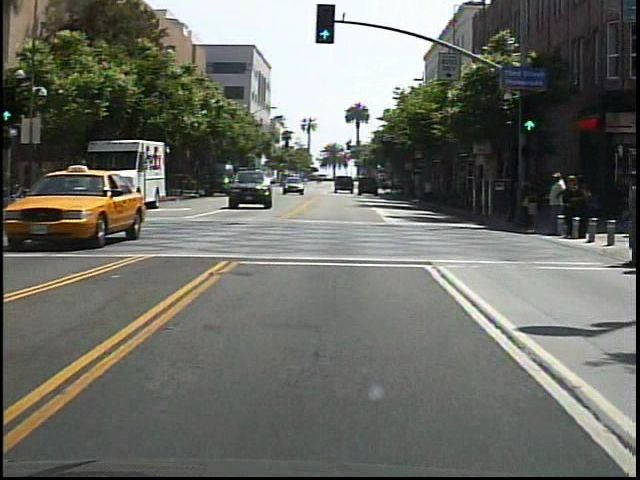person: (543, 167, 567, 239), (25, 163, 39, 203), (32, 161, 53, 184)
